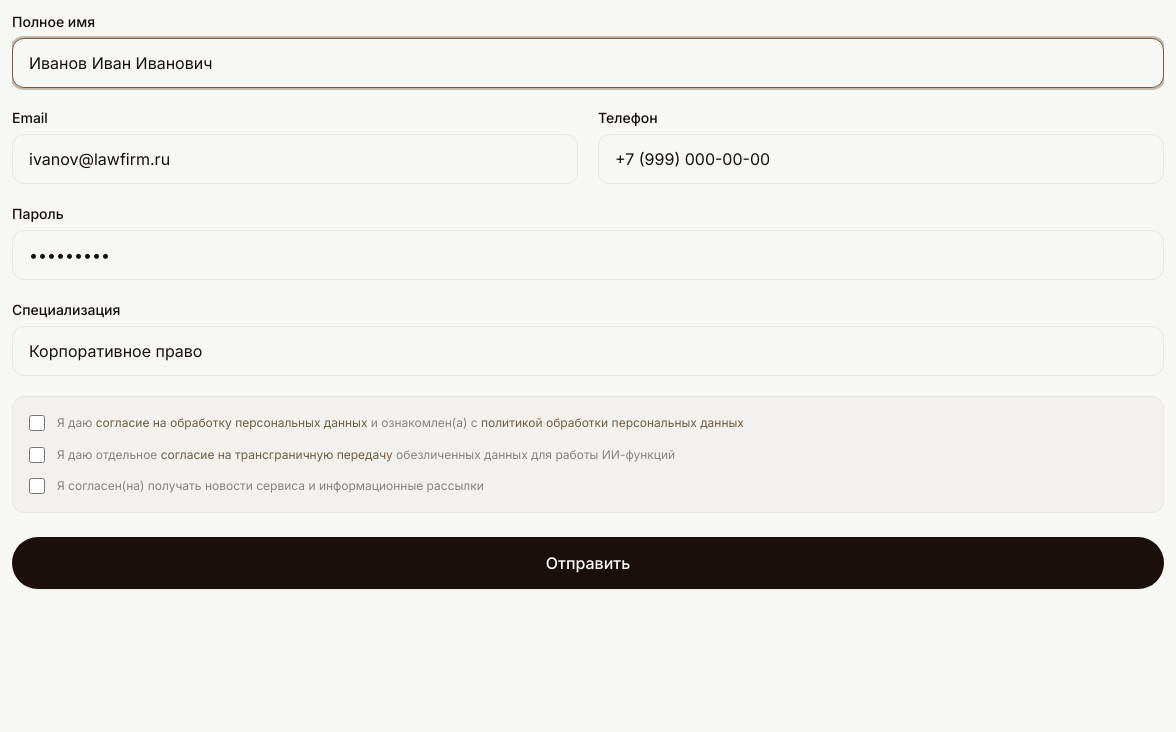
Scenario: ApplicationForm consents › blocks submission until mandatory consents are given
What coordinates should you click on to do the following:
click the button named "Отправить"
I would click on:
 (588, 562)
Its box is [12,536,1164,588].
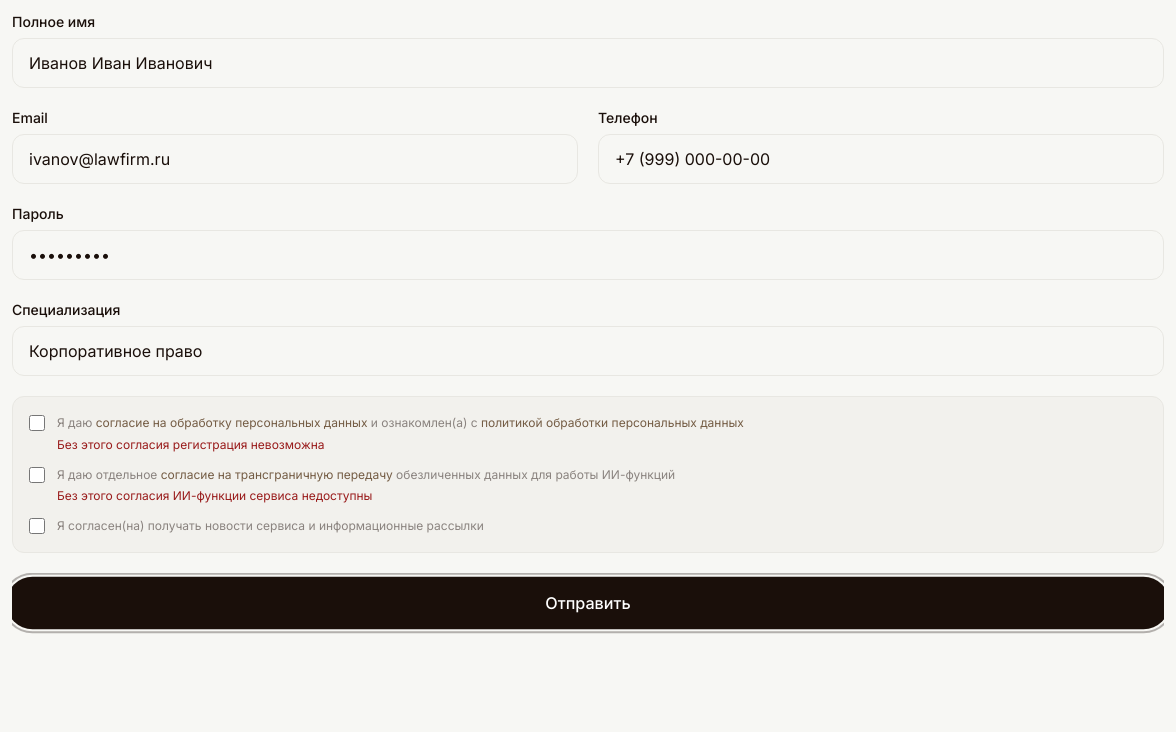
Check: the text "Без этого согласия регистрация невозможна" is shown, box [57,436,324,452]
Check: the text "Без этого согласия ИИ-функции сервиса недоступны" is shown, box [57,488,372,503]
